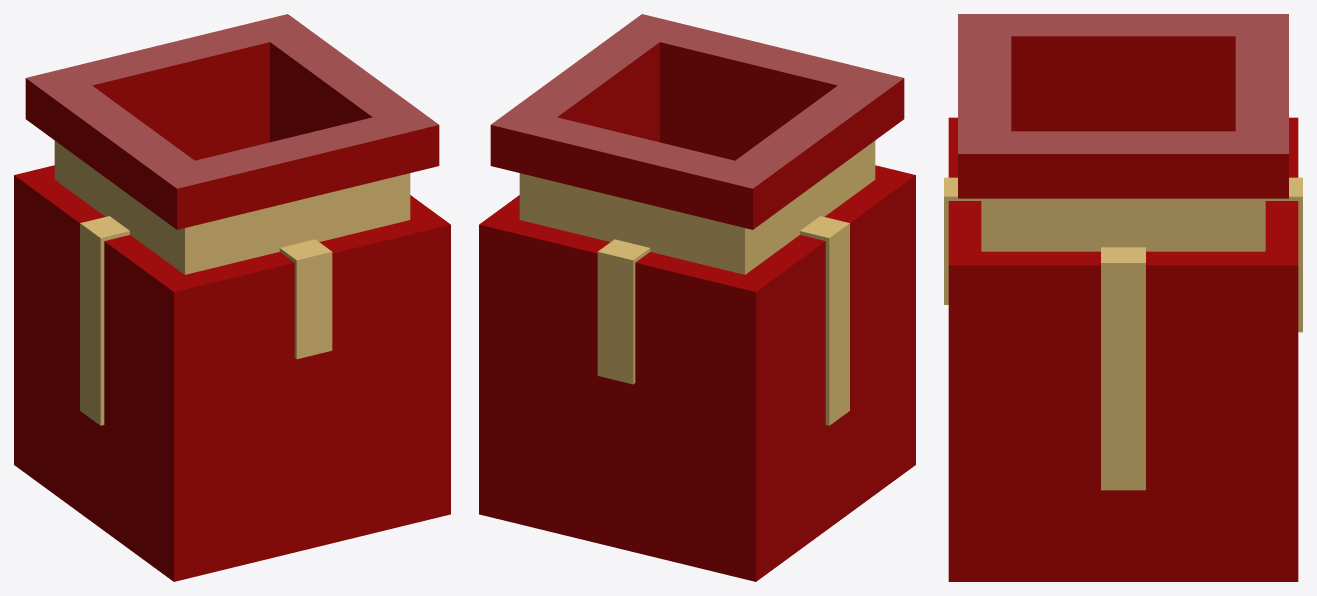
The model's file is 009 Santa_gift_bag.fbx.
The picture shows the model from 3 angles, left to right: view 1: azimuth 30°, elevation 25°; view 2: azimuth 150°, elevation 25°; view 3: azimuth 270°, elevation 25°; orthographic projection. The views are drawn at different scales.
Parts seen in each view (by area): view 1: Lowpoly_Christmas_Pack_09:pCube1; view 2: Lowpoly_Christmas_Pack_09:pCube1; view 3: Lowpoly_Christmas_Pack_09:pCube1.
Part boxes in pixels (x1,y1,x2,y2): Lowpoly_Christmas_Pack_09:pCube1: (14,14,450,581); Lowpoly_Christmas_Pack_09:pCube1: (479,14,915,581); Lowpoly_Christmas_Pack_09:pCube1: (944,14,1302,581).
Bounding box in the file's own units: 1.54 × 2.01 × 1.54.
